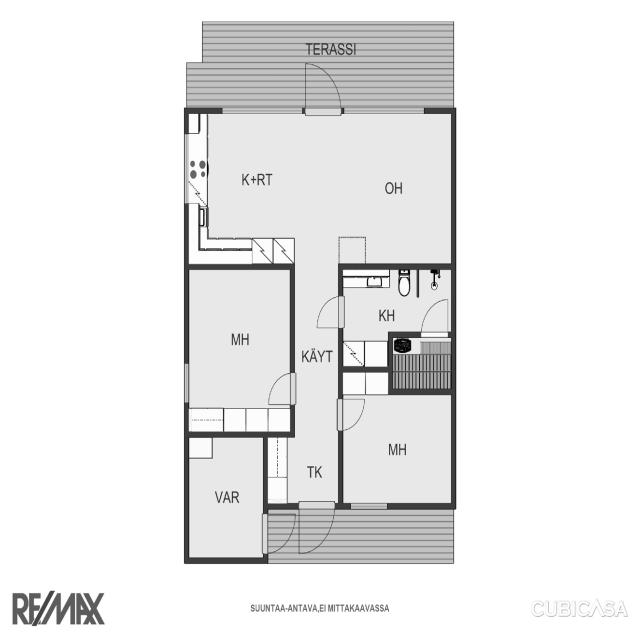door: (292, 56, 348, 120), (296, 496, 336, 562), (309, 280, 345, 339), (257, 507, 296, 561), (413, 288, 450, 340), (260, 366, 302, 408), (335, 391, 367, 435)
window: (218, 104, 308, 129), (341, 99, 431, 123), (177, 125, 194, 208), (336, 494, 398, 515), (176, 358, 196, 407)
zone: (184, 110, 455, 270), (185, 266, 294, 436), (337, 379, 455, 511), (341, 265, 458, 362), (184, 431, 268, 563), (392, 333, 456, 392)
